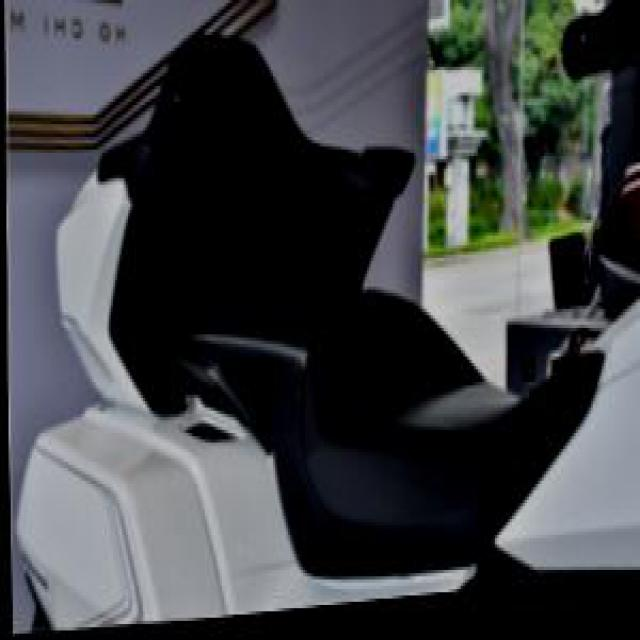Gold Wing: (2, 0, 638, 637)
